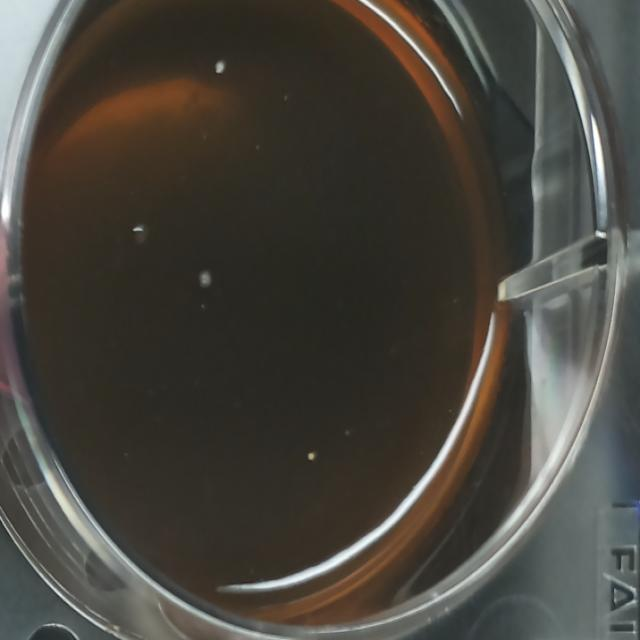Staphylococcus: (210, 52, 230, 82), (305, 446, 318, 465)
Vibrio: (128, 216, 152, 251)
